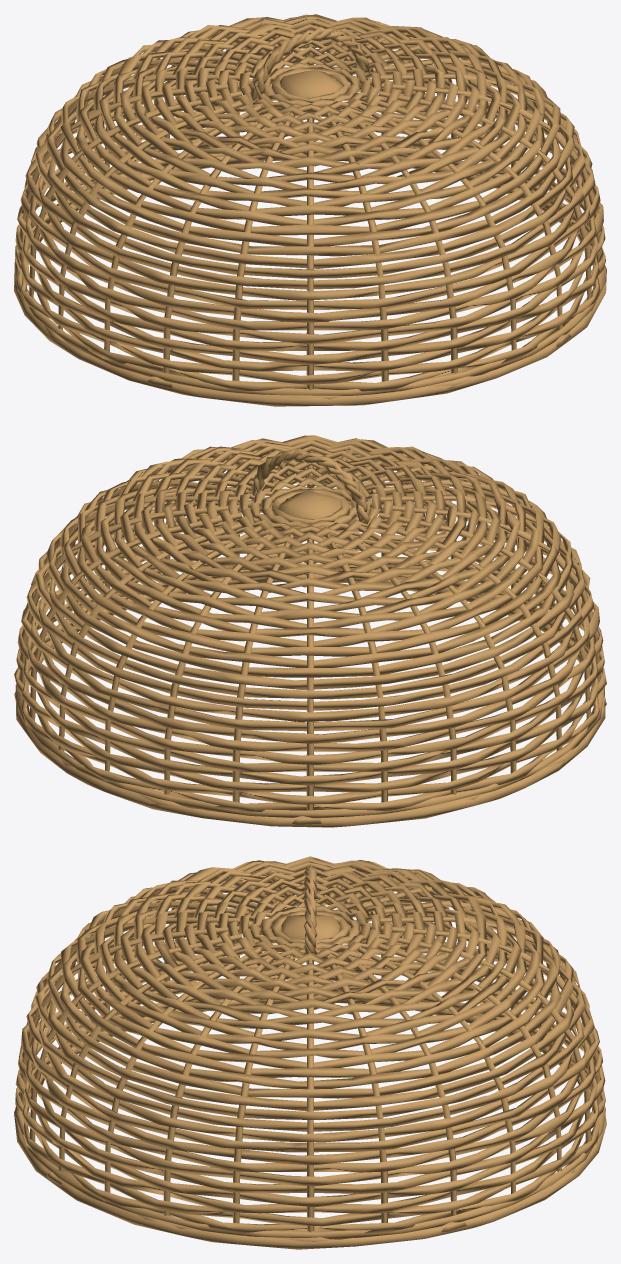
The model's file is tudung saji low poly.fbx.
3 views of the same model, one above another, from view 1: azimuth 30°, elevation 25°; view 2: azimuth 150°, elevation 25°; view 3: azimuth 270°, elevation 25° (orthographic).
Parts seen in each view (by area): view 1: Tudung_Saji.001; view 2: Tudung_Saji.001; view 3: Tudung_Saji.001.
Part boxes in pixels (box(x1,y1,x2,y2)): Tudung_Saji.001: box(14, 14, 606, 406); Tudung_Saji.001: box(14, 435, 606, 827); Tudung_Saji.001: box(14, 856, 606, 1249).
Bounding box in the file's own units: 57.65 × 27.22 × 57.66.
